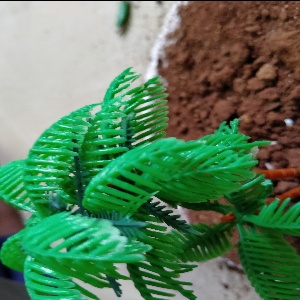plant: (6, 85, 296, 295)
